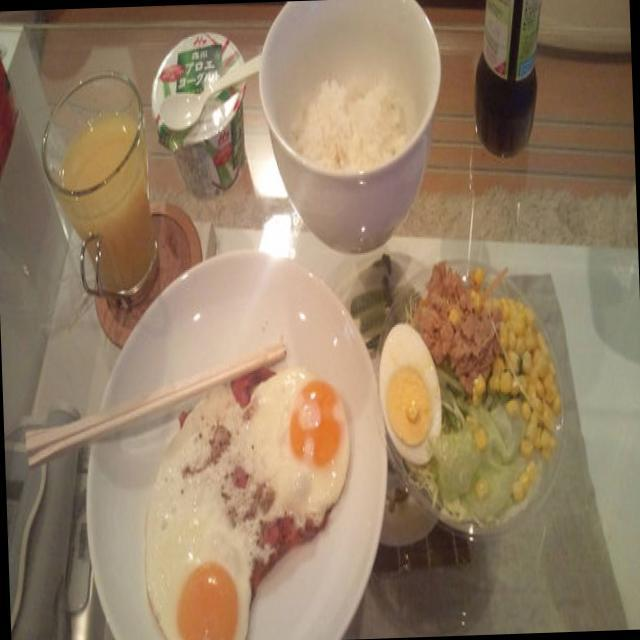Egg: (145, 429, 252, 640), (254, 368, 354, 512), (379, 312, 442, 464)
Green Salad: (432, 276, 562, 520)
Rice: (280, 45, 428, 169)
